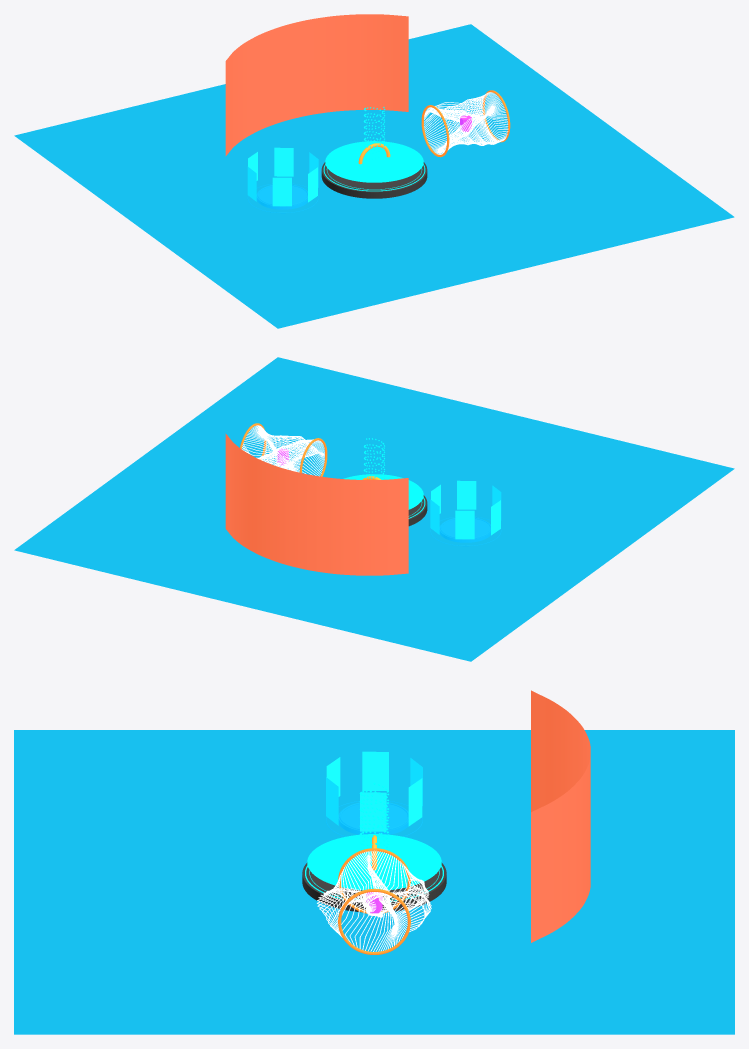
Rendered from future_wuzhen_full_hall.glb.
3 views of the same model, one above another, from view 1: azimuth 30°, elevation 25°; view 2: azimuth 150°, elevation 25°; view 3: azimuth 270°, elevation 25° (orthographic). The views are drawn at different scales.
Parts seen in each view (by area): view 1: Breathing_Circuit_Floor_30m, World_Internet_Data_Waterfall, Photon_Loom_100_Fiber_Weaves, Wuzhen_Hologram_Terrain, Pedestal_Dark_Brushed_Metal, Digital_Human_Awaken_Pad, Awaken_Glass_Panel_04, Awaken_Glass_Panel_01; view 2: Breathing_Circuit_Floor_30m, World_Internet_Data_Waterfall, Photon_Loom_100_Fiber_Weaves, Digital_Human_Awaken_Pad, Awaken_Glass_Panel_02, Awaken_Glass_Panel_05, Wuzhen_Hologram_Terrain; view 3: Breathing_Circuit_Floor_30m, World_Internet_Data_Waterfall, Wuzhen_Hologram_Terrain, Photon_Loom_100_Fiber_Weaves, Pedestal_Dark_Brushed_Metal, Digital_Human_Awaken_Pad, Awaken_Glass_Panel_03, Awaken_Glass_Panel_00, Photon_Loom_Frame_R, Awaken_Glass_Panel_01.
Part boxes in pixels (left/top/right/bottom): Breathing_Circuit_Floor_30m: left=14, top=24, right=734, bottom=328; World_Internet_Data_Waterfall: left=225, top=14, right=408, bottom=156; Photon_Loom_100_Fiber_Weaves: left=424, top=92, right=508, bottom=154; Wuzhen_Hologram_Terrain: left=325, top=141, right=423, bottom=182; Pedestal_Dark_Brushed_Metal: left=321, top=162, right=427, bottom=198; Digital_Human_Awaken_Pad: left=256, top=186, right=307, bottom=209; Awaken_Glass_Panel_04: left=272, top=177, right=291, bottom=206; Awaken_Glass_Panel_01: left=274, top=147, right=293, bottom=176; Breathing_Circuit_Floor_30m: left=14, top=357, right=734, bottom=661; World_Internet_Data_Waterfall: left=225, top=433, right=408, bottom=575; Photon_Loom_100_Fiber_Weaves: left=242, top=425, right=324, bottom=476; Digital_Human_Awaken_Pad: left=439, top=519, right=490, bottom=542; Awaken_Glass_Panel_02: left=455, top=510, right=474, bottom=539; Awaken_Glass_Panel_05: left=457, top=480, right=476, bottom=509; Wuzhen_Hologram_Terrain: left=343, top=474, right=423, bottom=509; Breathing_Circuit_Floor_30m: left=14, top=730, right=734, bottom=1034; World_Internet_Data_Waterfall: left=531, top=690, right=590, bottom=942; Wuzhen_Hologram_Terrain: left=307, top=834, right=441, bottom=890; Photon_Loom_100_Fiber_Weaves: left=317, top=850, right=431, bottom=951; Pedestal_Dark_Brushed_Metal: left=302, top=862, right=446, bottom=912; Digital_Human_Awaken_Pad: left=338, top=804, right=408, bottom=834; Awaken_Glass_Panel_03: left=362, top=751, right=388, bottom=790; Awaken_Glass_Panel_00: left=360, top=792, right=386, bottom=831; Photon_Loom_Frame_R: left=338, top=888, right=410, bottom=954; Awaken_Glass_Panel_01: left=408, top=778, right=422, bottom=826.
Size of the model in its own units: 30 by 6.4 by 30.
